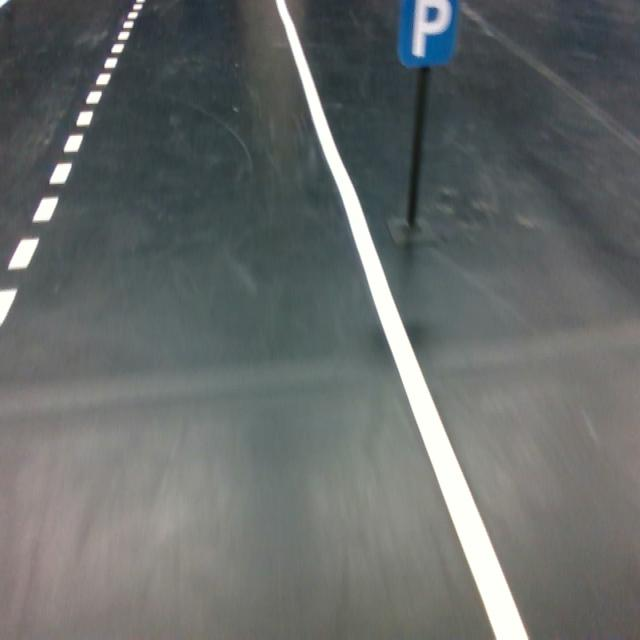parking-sign: (396, 0, 461, 70)
